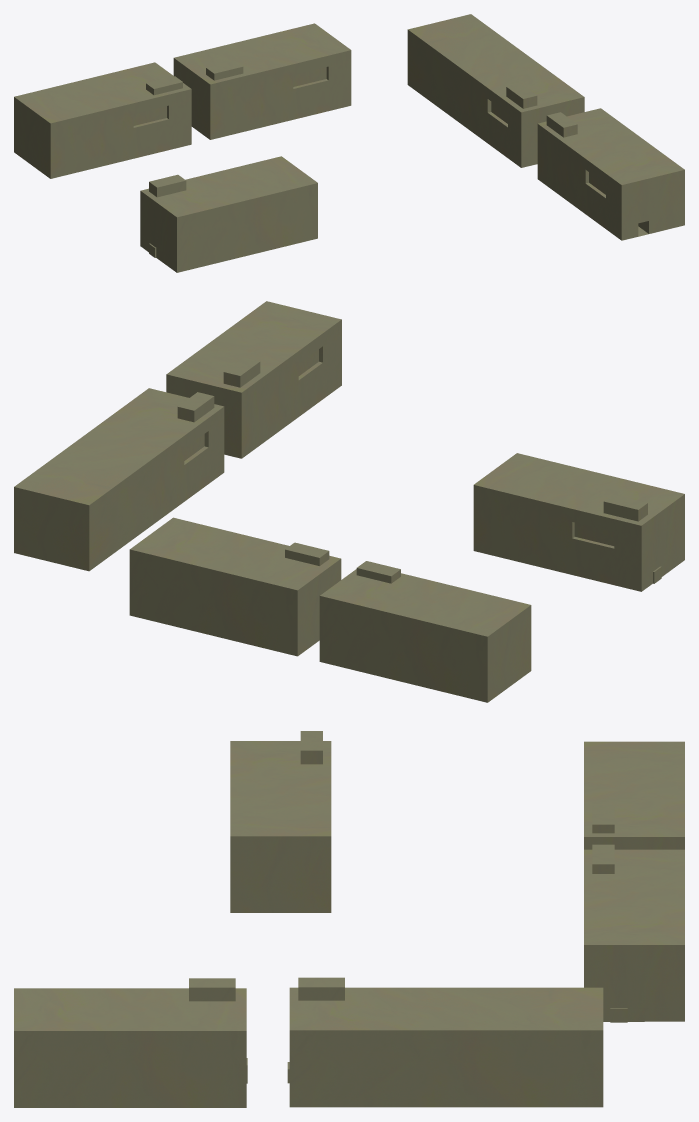
The model's file is SmallBuildings.fbx.
3 views of the same model, one above another, from view 1: azimuth 30°, elevation 25°; view 2: azimuth 150°, elevation 25°; view 3: azimuth 270°, elevation 25° (orthographic). The views are drawn at different scales.
Parts seen in each view (by area): view 1: polySurface6; view 2: polySurface6; view 3: polySurface6.
Boxes of the visible parts, bbox=[...] form: polySurface6: bbox=[14, 14, 684, 272]; polySurface6: bbox=[14, 301, 684, 702]; polySurface6: bbox=[14, 731, 684, 1107].
Bounding box in the file's own units: 171 × 166 × 24.78.
3 materials, 3 textured.
